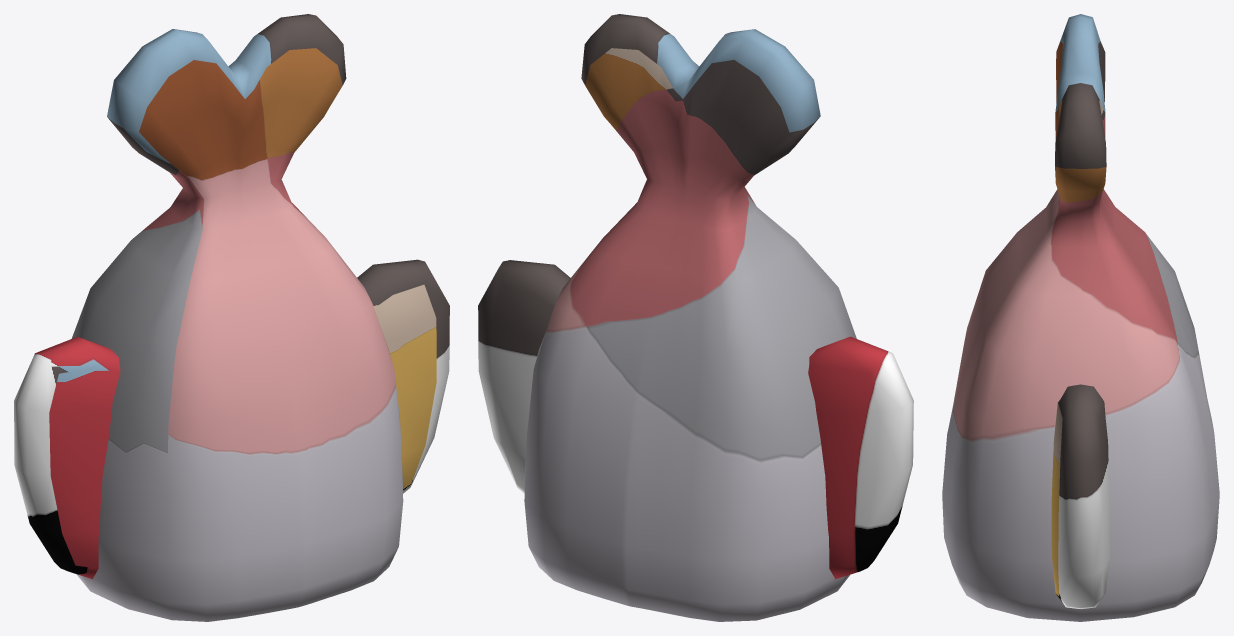
File: Hat_FishFace.fbx
The picture shows the model from 3 angles, left to right: view 1: azimuth 30°, elevation 25°; view 2: azimuth 150°, elevation 25°; view 3: azimuth 270°, elevation 25°; orthographic projection. The views are drawn at different scales.
Parts seen in each view (by area): view 1: Hat_FishFace; view 2: Hat_FishFace; view 3: Hat_FishFace.
Boxes of the visible parts, x1,y1,x2,y2 form: Hat_FishFace: (14,14,449,621); Hat_FishFace: (478,14,913,621); Hat_FishFace: (942,14,1219,621).
Bounding box in the file's own units: 87.11 × 106 × 51.25.
